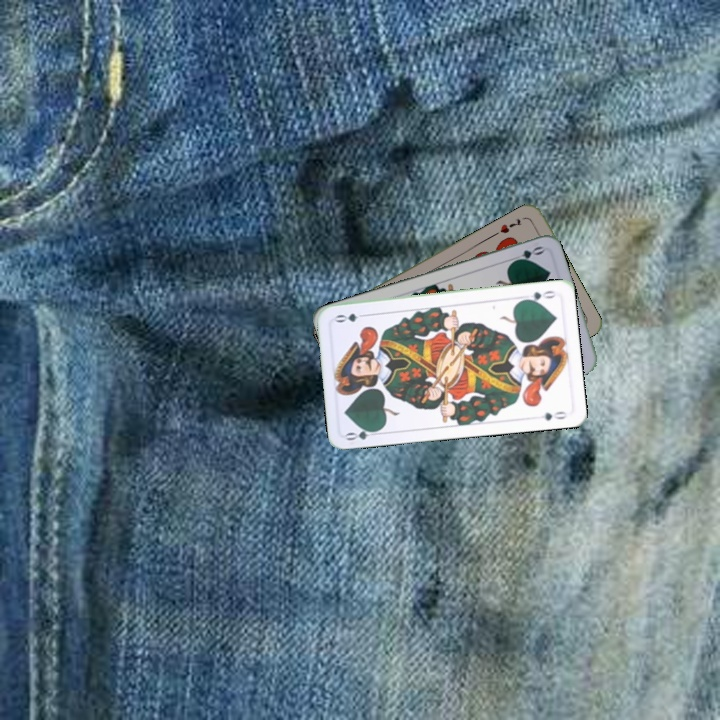GO: (506, 242, 546, 266), (342, 424, 383, 443), (518, 287, 559, 305)
H7: (496, 214, 524, 236)
